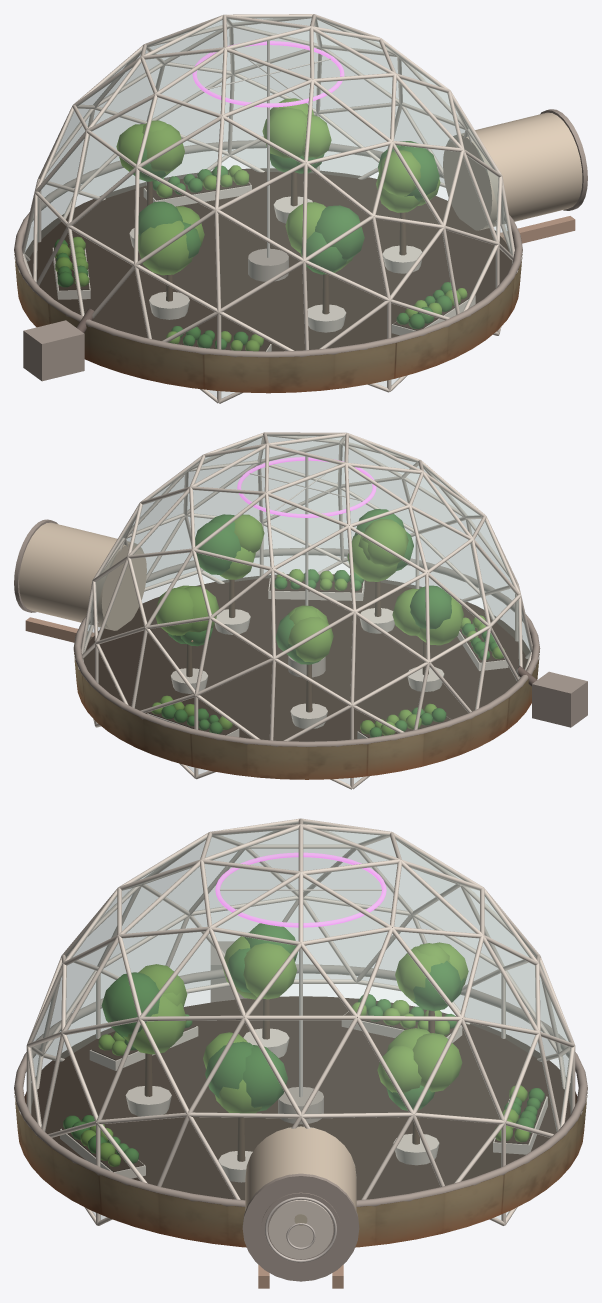
File: A06_greenhouse_dome_12m.glb
3 views of the same model, one above another, from view 1: azimuth 30°, elevation 25°; view 2: azimuth 150°, elevation 25°; view 3: azimuth 270°, elevation 25° (orthographic). The views are drawn at different scales.
Visible parts, largest first — view 1: dome_glazing, dome_floor, ring_wall, crown (×12), airlock_tunnel, ring_beam, climate_unit, planter (×3), grow_light_ring, irrigation_hub, tunnel_cradle, bed (+2 smaller); view 2: dome_glazing, dome_floor, ring_wall, crown (×11), airlock_tunnel, ring_beam, planter (×5), climate_unit, grow_light_ring, tunnel_cradle, bed, tunnel_flange (+1 smaller); view 3: dome_glazing, dome_floor, crown (×13), ring_wall, ring_beam, tunnel_flange, airlock_tunnel, planter (×4), door, bed (×4), grow_light_ring, door_frame (+4 smaller).
Boxes of the visible parts, x1,y1,x2,y2 form: dome_glazing: (23, 16, 513, 398); dome_floor: (25, 168, 512, 351); ring_wall: (14, 254, 522, 393); crown (×12): (116, 108, 439, 275); airlock_tunnel: (443, 112, 582, 230); ring_beam: (14, 140, 522, 357); climate_unit: (23, 320, 84, 381); planter (×3): (149, 245, 421, 332); grow_light_ring: (192, 41, 344, 107); irrigation_hub: (248, 248, 288, 281); tunnel_cradle: (500, 216, 575, 243); bed: (143, 182, 251, 206); dome_glazing: (82, 434, 531, 784); dome_floor: (83, 574, 529, 741); ring_wall: (73, 650, 539, 779); crown (×11): (155, 514, 463, 662); airlock_tunnel: (19, 522, 146, 630); ring_beam: (73, 547, 539, 746); planter (×5): (171, 608, 444, 728); climate_unit: (532, 671, 587, 727); grow_light_ring: (237, 457, 376, 517); tunnel_cradle: (25, 617, 94, 642); bed: (268, 578, 364, 600); tunnel_flange: (14, 519, 57, 612); dome_glazing: (29, 821, 572, 1219); dome_floor: (24, 996, 577, 1200); crown (×13): (101, 923, 462, 1113); ring_wall: (14, 1092, 587, 1247); ring_beam: (14, 964, 587, 1206); tunnel_flange: (242, 1173, 359, 1281); airlock_tunnel: (245, 1126, 356, 1210); planter (×4): (125, 1028, 439, 1182); door: (268, 1200, 333, 1259); bed (×4): (60, 1011, 547, 1178); grow_light_ring: (215, 852, 386, 927); door_frame: (261, 1192, 340, 1265).
Size of the model in its own units: 15.86 by 7.18 by 12.4.
Materials: 15 (1 with a texture image).
